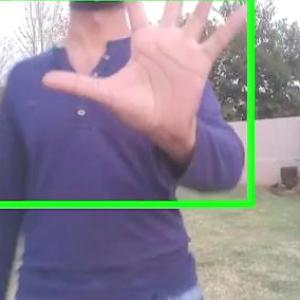follow_hand: (40, 0, 258, 148)
